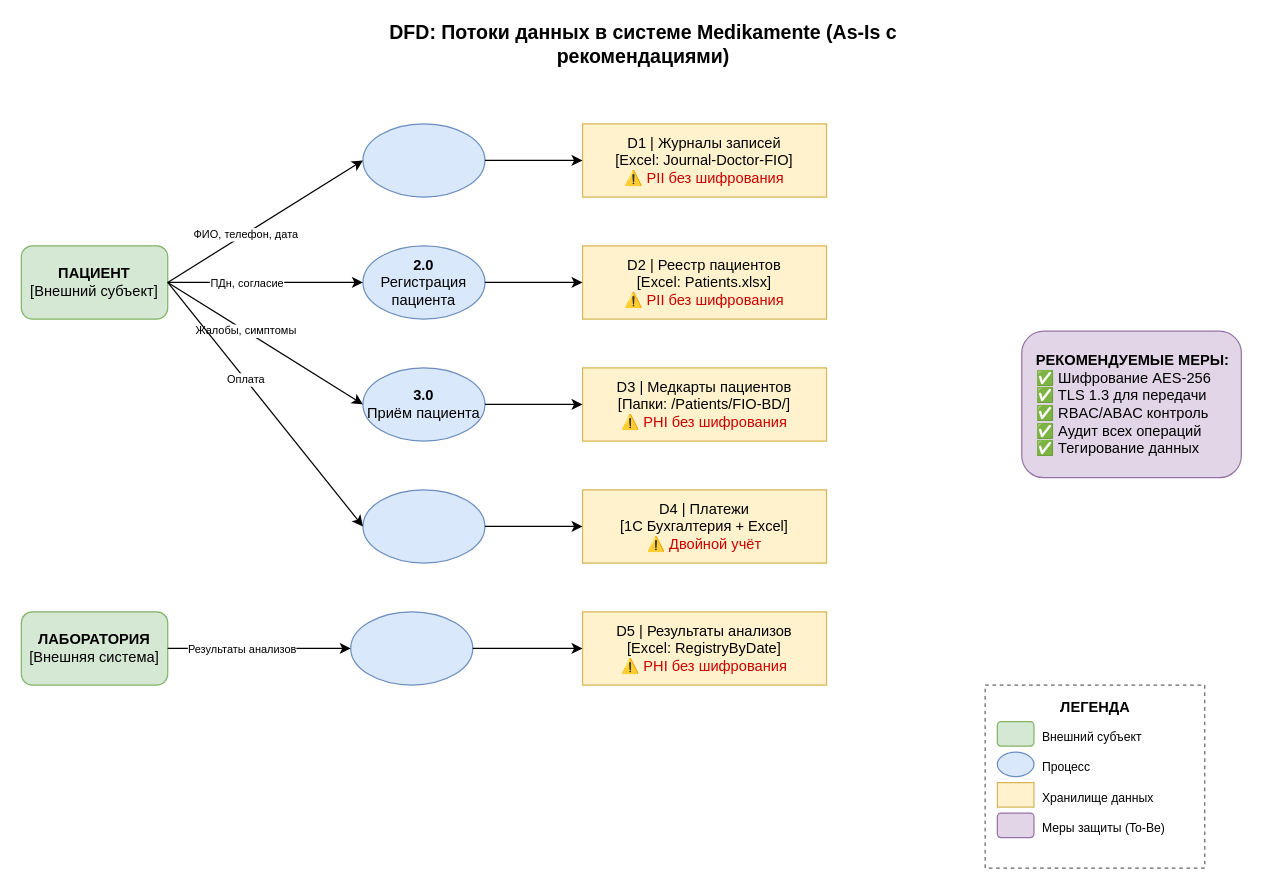
Some shapes in this 1263 by 889 pixel diagram are drawn without their labels. The centre of each missing label's shape, as x and y in pixels:
"1.0 Запись к врачу" goes at [423,160].
"4.0 Оплата услуг" goes at [423,526].
"5.0 Обработка анализов" goes at [411,648].
